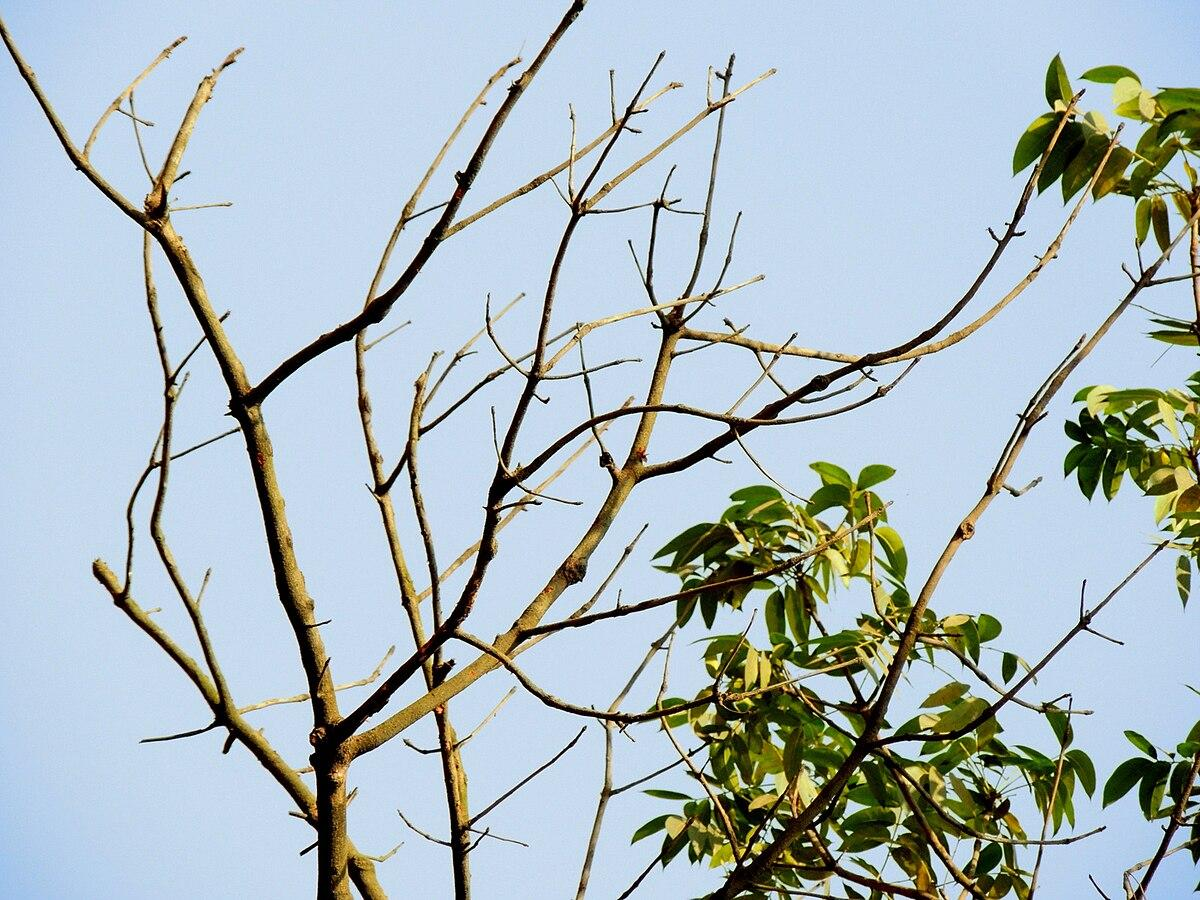baldness: (0, 0, 1043, 899)
